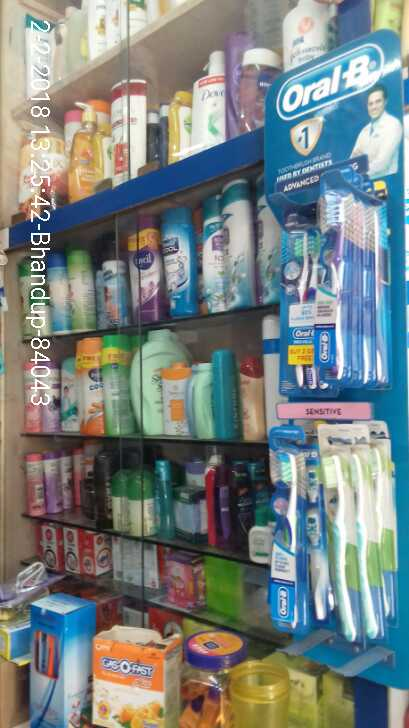oralb: (275, 189, 391, 395), (263, 455, 303, 636)
